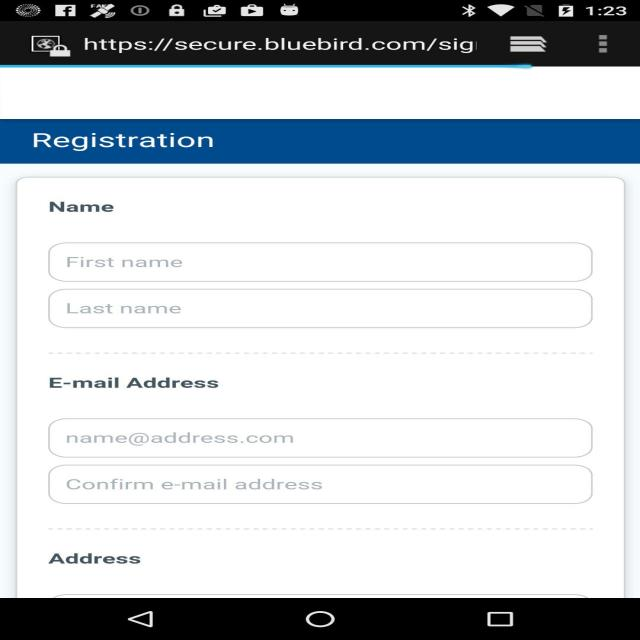button: (19, 279, 612, 352), (28, 411, 605, 463), (57, 235, 605, 289), (41, 474, 616, 504)
text: (24, 124, 239, 164), (31, 367, 234, 400), (30, 195, 132, 229), (50, 544, 171, 569)
